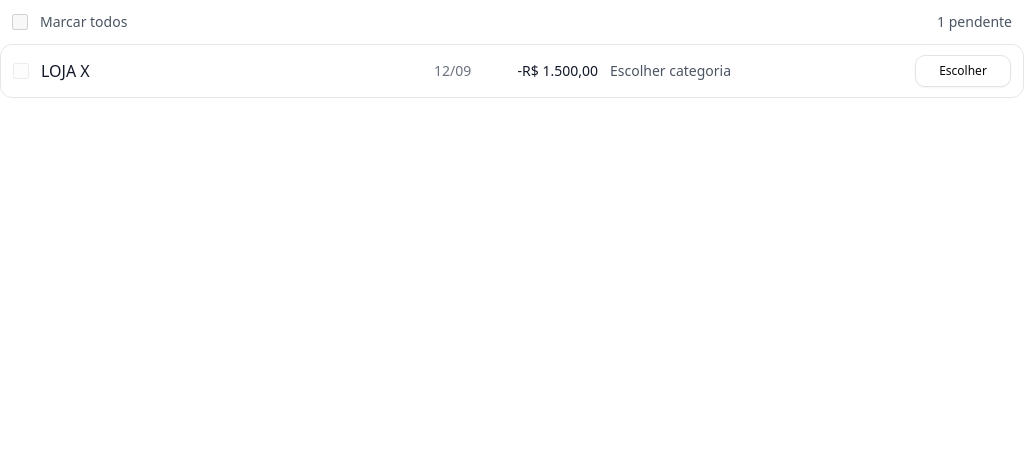
Test case: ListaConciliar — o palpite de cada linha › sem categoria: "Escolher categoria", não marca, e o botão abre a linha
This screenshot has width=1024, height=474.
Expected: the text "Escolher categoria" is shown, [610,61,731,80]
Click the button "Escolher" at (963, 71), box [915,55,1011,87]
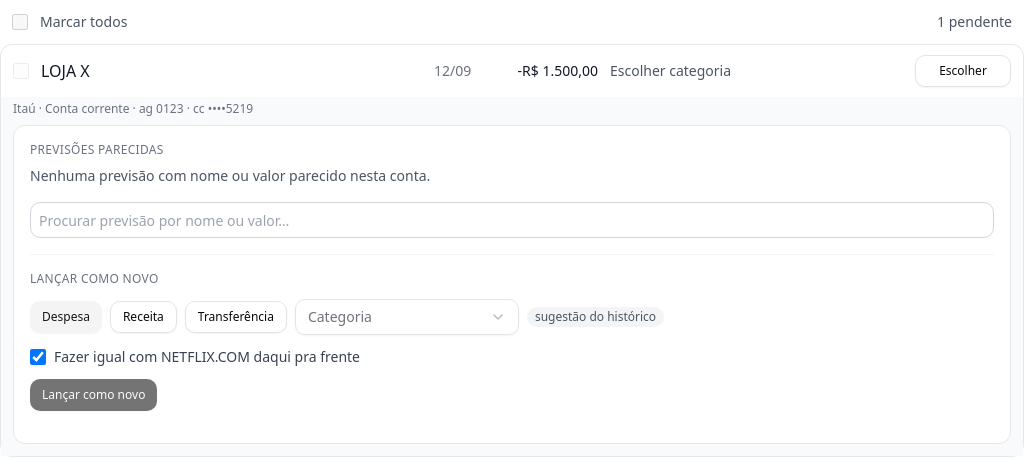
Now the dropdown labelled "Categoria" is shown, box [295,299,519,335]
